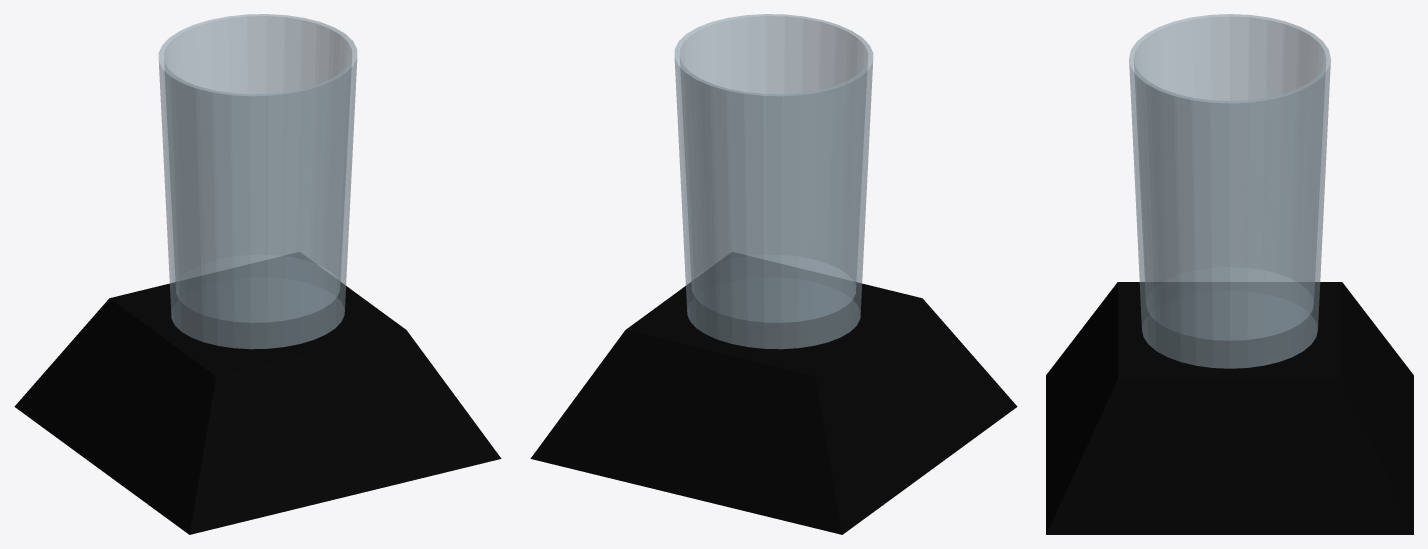
The model's file is blender.obj.
3 renders of one model, left to right at view 1: azimuth 30°, elevation 25°; view 2: azimuth 150°, elevation 25°; view 3: azimuth 270°, elevation 25°, orthographic. The views are drawn at different scales.
Parts seen in each view (by area): view 1: Cylinder, Cylinder.001; view 2: Cylinder, Cylinder.001; view 3: Cylinder, Cylinder.001.
Part boxes in pixels (left/top/right/bottom): Cylinder: left=14, top=282, right=501, bottom=534; Cylinder.001: left=158, top=14, right=357, bottom=349; Cylinder: left=530, top=282, right=1017, bottom=534; Cylinder.001: left=674, top=14, right=873, bottom=349; Cylinder: left=1046, top=282, right=1413, bottom=534; Cylinder.001: left=1129, top=14, right=1330, bottom=368.
Bounding box in the file's own units: 1.48 × 1.71 × 1.44.
